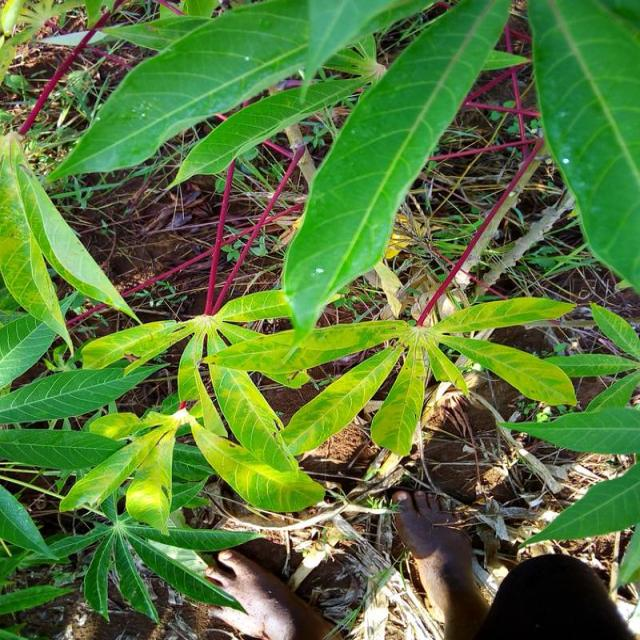cassava leaf: (281, 0, 516, 348), (45, 0, 437, 186), (528, 0, 640, 295), (2, 130, 143, 356)
